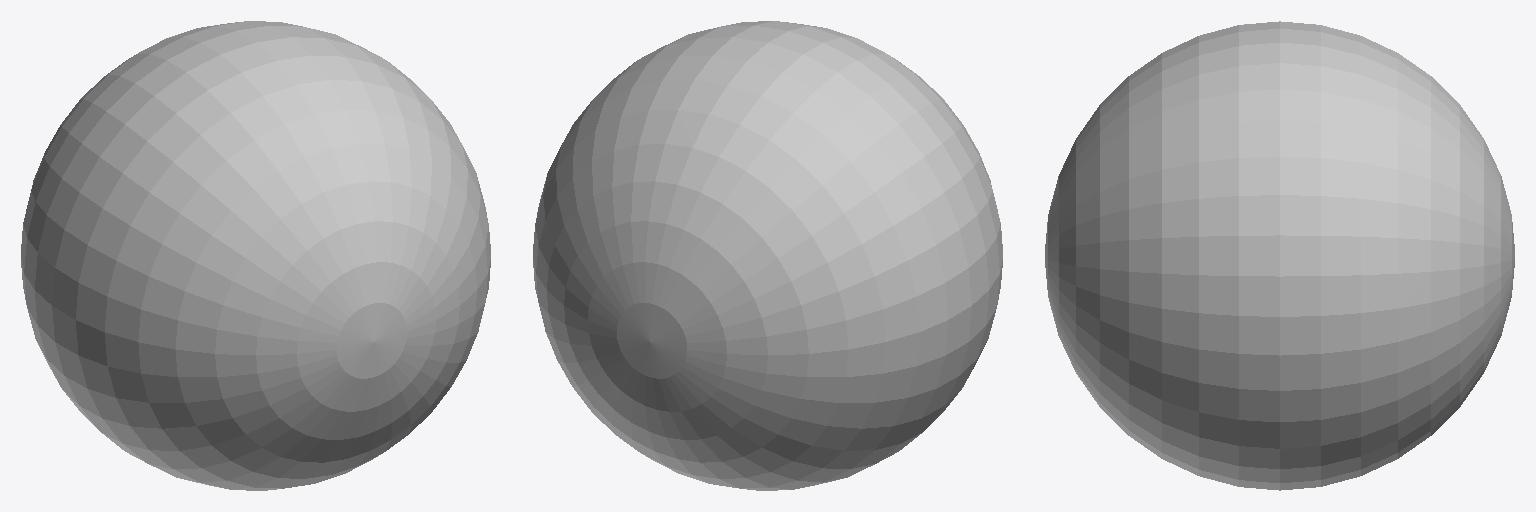
The model's file is nested_sphere.obj.
3 renders of one model, left to right at view 1: azimuth 30°, elevation 25°; view 2: azimuth 150°, elevation 25°; view 3: azimuth 270°, elevation 25°, orthographic.
Visible parts, largest first — view 1: obj_0; view 2: obj_0; view 3: obj_0.
Part boxes in pixels (x1,y1,x2,y2): obj_0: (21,21,490,490); obj_0: (533,21,1002,490); obj_0: (1045,21,1514,490).
Bounding box in the file's own units: 30 × 30 × 30.